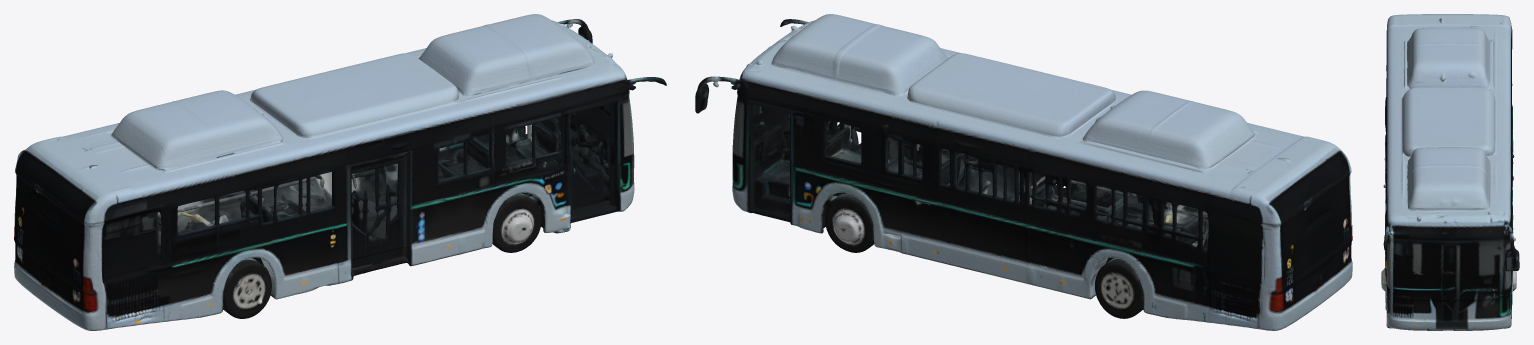
File: primer-modelo.glb
3 renders of one model, left to right at view 1: azimuth 30°, elevation 25°; view 2: azimuth 150°, elevation 25°; view 3: azimuth 270°, elevation 25°, orthographic. The views are drawn at different scales.
Visible parts, largest first — view 1: tripo_node_7bb36e4c-d490-4c88-a8df-107ec1242886; view 2: tripo_node_7bb36e4c-d490-4c88-a8df-107ec1242886; view 3: tripo_node_7bb36e4c-d490-4c88-a8df-107ec1242886.
Part boxes in pixels (x1=…): tripo_node_7bb36e4c-d490-4c88-a8df-107ec1242886: x1=14, y1=14, x2=666, y2=330; tripo_node_7bb36e4c-d490-4c88-a8df-107ec1242886: x1=695, y1=14, x2=1352, y2=330; tripo_node_7bb36e4c-d490-4c88-a8df-107ec1242886: x1=1381, y1=14, x2=1519, y2=330.
Bounding box in the file's own units: 1 × 0.2968 × 0.2571.
1 material, 1 textured.
